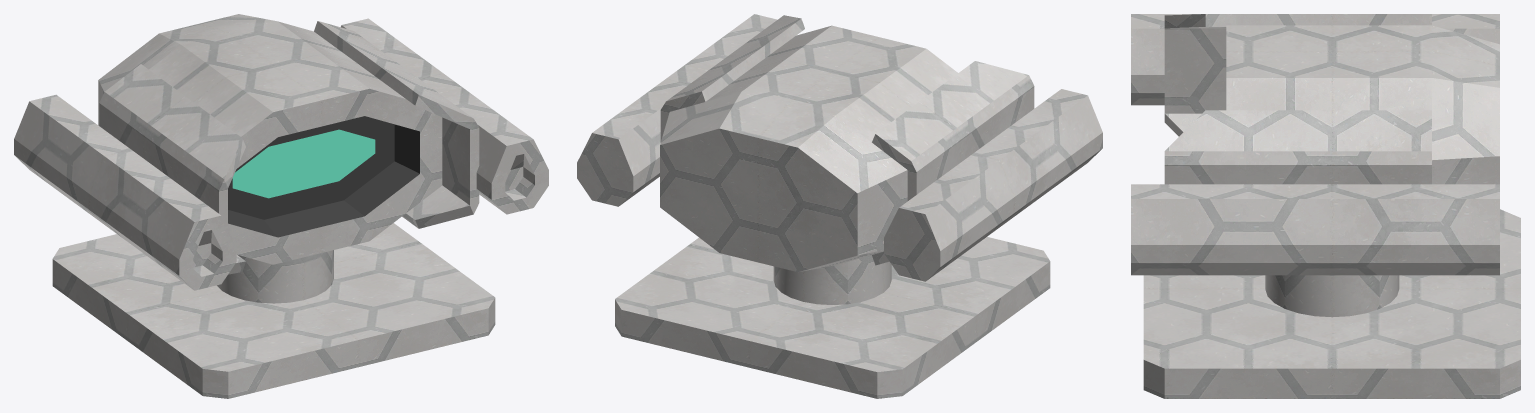
File: MachineGun.model.fbx
3 renders of one model, left to right at view 1: azimuth 30°, elevation 25°; view 2: azimuth 150°, elevation 25°; view 3: azimuth 270°, elevation 25°, orthographic. The views are drawn at different scales.
Visible parts, largest first — view 1: engine_high_9, roof_square_1, engine_barrel_11, engine_barrel_10, cylinder_full_2; view 2: engine_high_9, roof_square_1, engine_barrel_11, engine_barrel_10, cylinder_full_2; view 3: engine_high_9, roof_square_1, engine_barrel_10, cylinder_full_2, engine_barrel_11.
Boxes of the visible parts, <box> form: engine_high_9: <box>98,14,479,274</box>; roof_square_1: <box>52,223,495,398</box>; engine_barrel_11: <box>14,94,236,290</box>; engine_barrel_10: <box>341,18,548,214</box>; cylinder_full_2: <box>217,250,333,303</box>; engine_high_9: <box>660,15,1034,272</box>; roof_square_1: <box>615,237,1050,398</box>; engine_barrel_11: <box>884,89,1102,281</box>; engine_barrel_10: <box>577,14,777,206</box>; cylinder_full_2: <box>773,255,891,304</box>; engine_high_9: <box>1164,14,1499,184</box>; roof_square_1: <box>1143,209,1520,398</box>; engine_barrel_10: <box>1131,184,1499,275</box>; cylinder_full_2: <box>1265,275,1399,317</box>; engine_barrel_11: <box>1131,14,1499,105</box>.
Size of the model in its own units: 14.2 by 8.8 by 11.62.
Materials: 4 (2 with a texture image).
